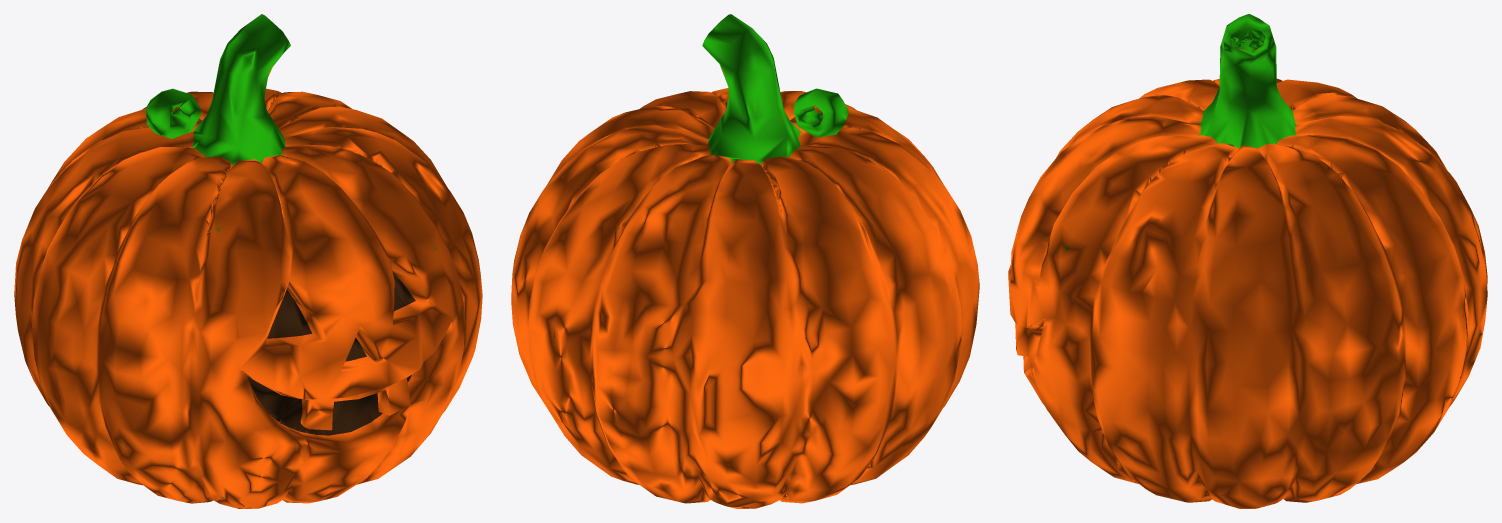
File: pumpkin.glb
3 views of the same model, side by side, from view 1: azimuth 30°, elevation 25°; view 2: azimuth 150°, elevation 25°; view 3: azimuth 270°, elevation 25° (orthographic). The views are drawn at different scales.
Parts seen in each view (by area): view 1: bdec_0qrthtbe.glb; view 2: bdec_0qrthtbe.glb; view 3: bdec_0qrthtbe.glb.
Boxes of the visible parts, <box> form: bdec_0qrthtbe.glb: <box>14,14,482,508</box>; bdec_0qrthtbe.glb: <box>511,14,979,508</box>; bdec_0qrthtbe.glb: <box>1008,14,1487,508</box>.
Size of the model in its own units: 0.9673 by 1.01 by 0.9675.
Materials: 1 (1 with a texture image).
